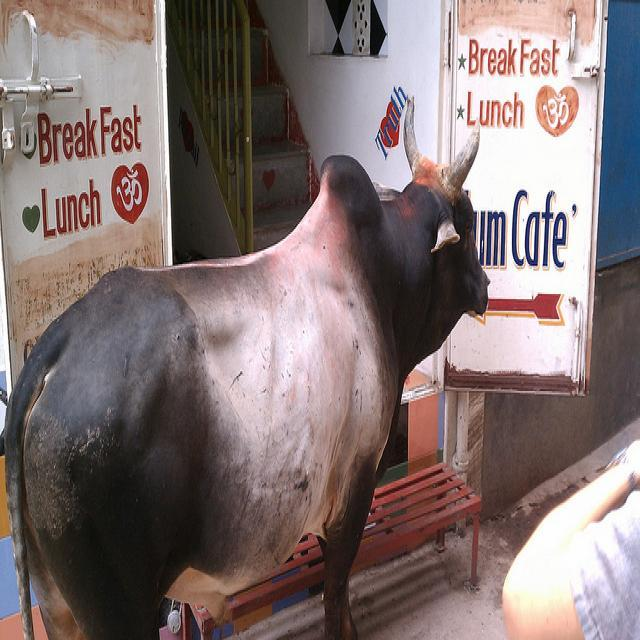cow: (1, 87, 492, 627)
